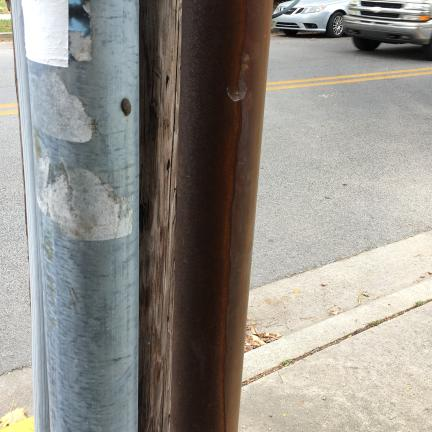karat: (169, 0, 271, 431)
